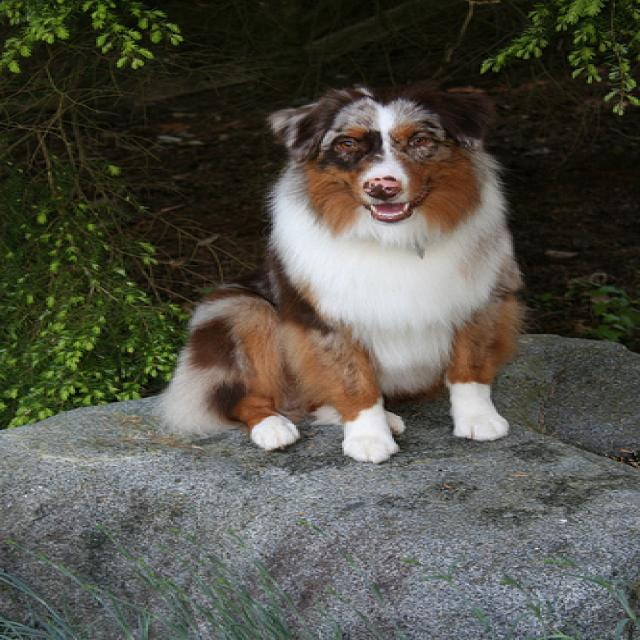dog-shiba_inu: (152, 74, 532, 463)
